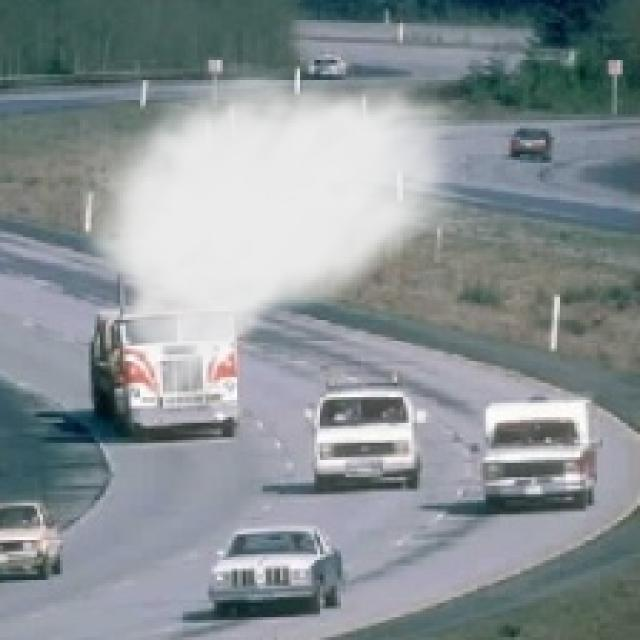Smoke: (71, 60, 480, 426)
